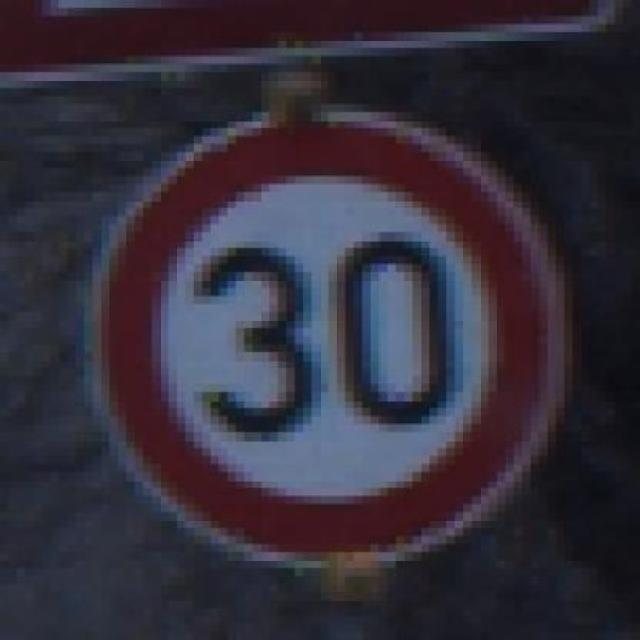Speed Limit 30 KMPh: (33, 95, 615, 592)
